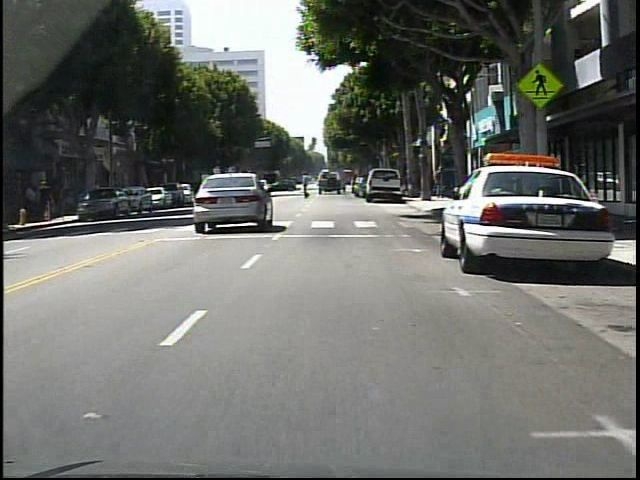person: (432, 164, 450, 205), (40, 180, 56, 221), (300, 169, 315, 203), (25, 183, 38, 221)
